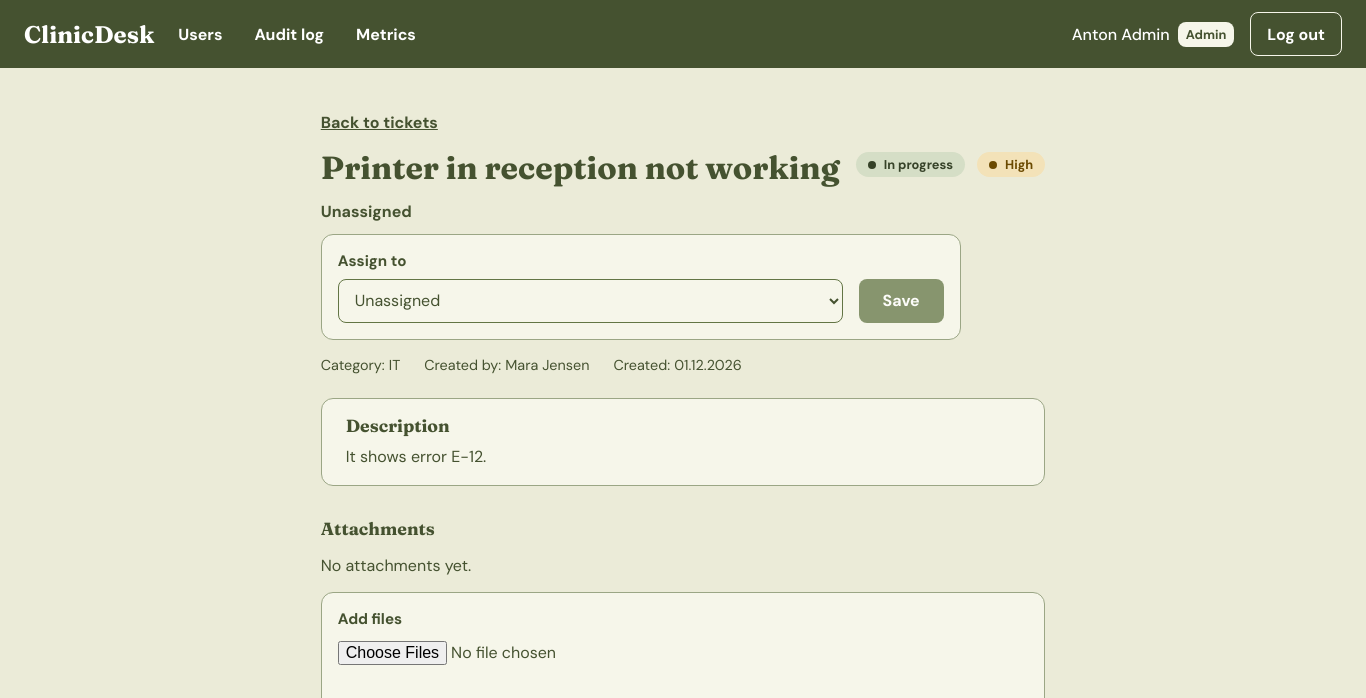
Test case: assignment for admins › assigns an agent from the select
Check: the button "Save" is disabled, box [859,279,944,323]
Select "Omar Haddad" in the dropdown labelled "Assign to" at (590, 301), box [338,279,843,323]
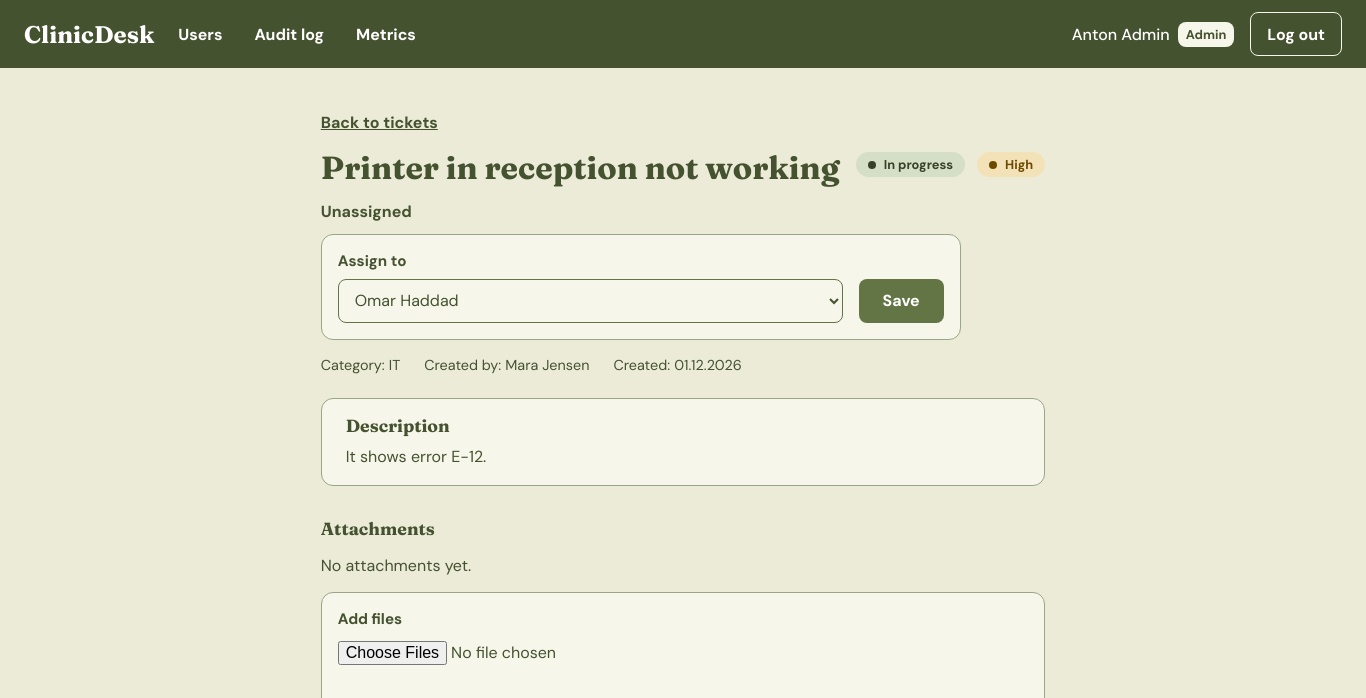
Check: the button "Save" is enabled
Click the button "Save" at (901, 301), box [859,279,944,323]
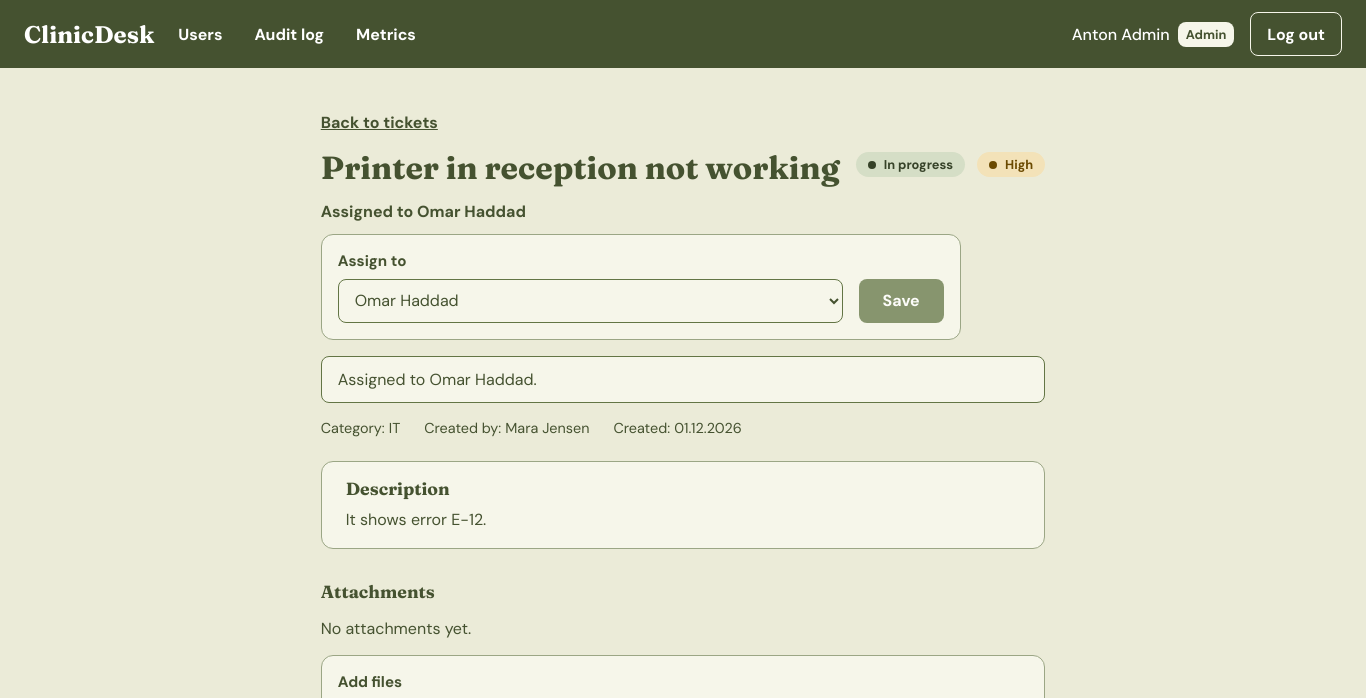
Check: the dropdown labelled "Assign to" shows "Omar Haddad", box [338,279,843,323]
Check: the text "Assigned to Omar Haddad." is shown, box [321,356,1045,403]
Check: the text with class "assignee-line" reads "Assigned to Omar Haddad", box [321,201,526,222]
